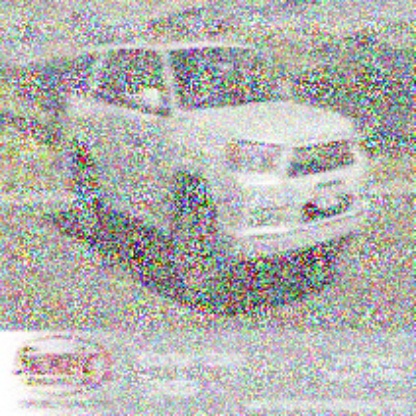Vehicle: (61, 31, 374, 318)
